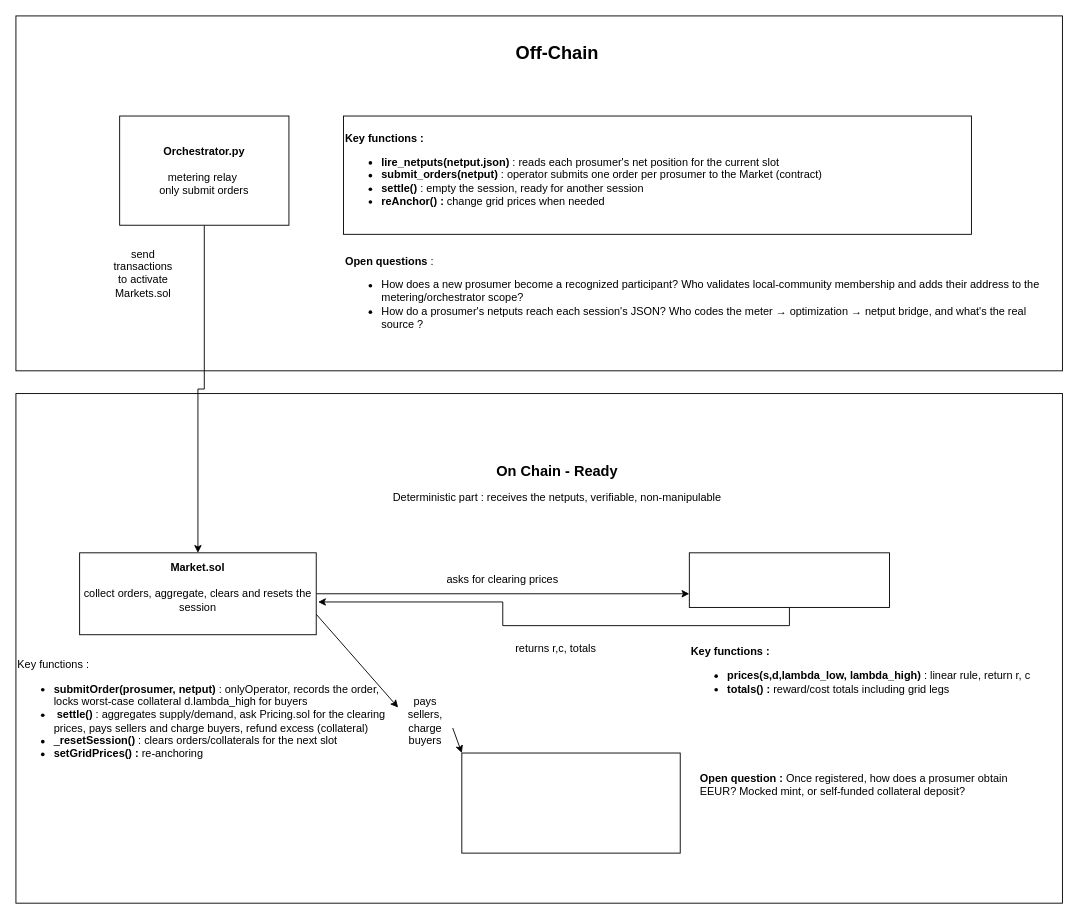
Image size: 1078x919. Some labels were removed from this diagram. Each missing label, with the centre of its shape:
EnergyEuro.sol ERC-20 token for the private blockchain EEUR: [570,802]
Pricing.sol maths prices library, no state, no funds: [789,579]
